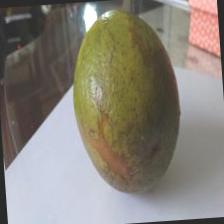Orange Rotten: (64, 0, 196, 207)
